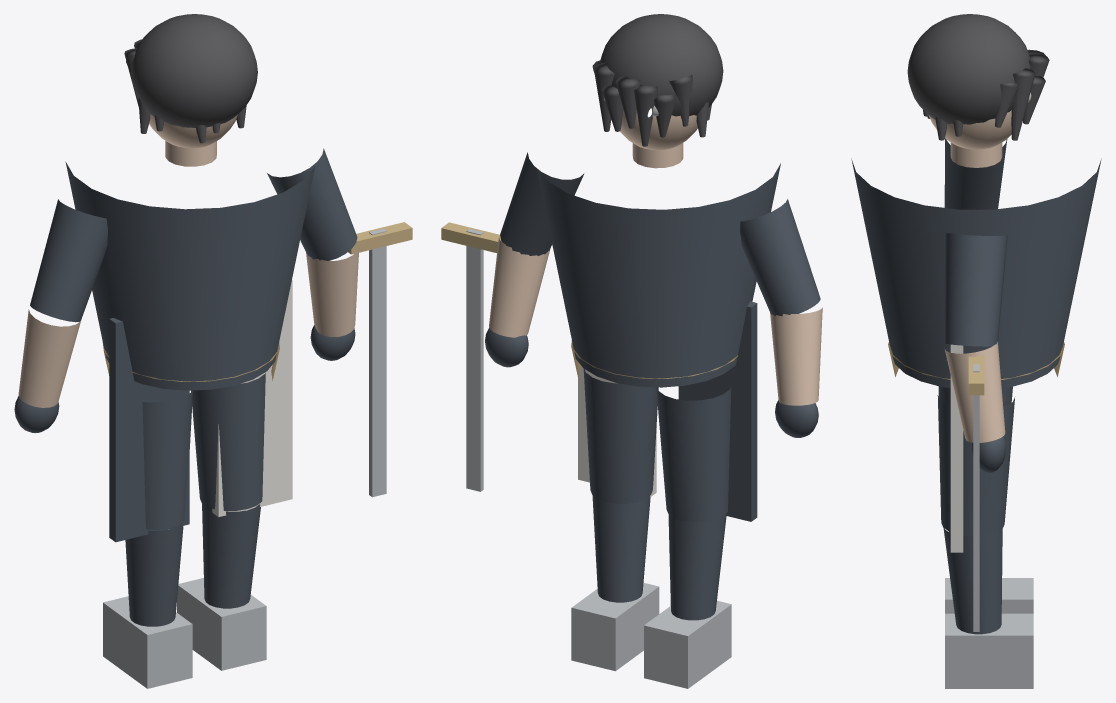
File: haechan-procedural-v1.glb
3 renders of one model, left to right at view 1: azimuth 30°, elevation 25°; view 2: azimuth 150°, elevation 25°; view 3: azimuth 270°, elevation 25°, orthographic. The views are drawn at different scales.
Parts seen in each view (by area): view 1: Outfit_Torso, Hair_Cap, Body_Thigh_R, Outfit_CoatTail_L, Body_UpperArm_L, Body_Thigh_L, Outfit_Boot_L, Outfit_CoatTail_R, Outfit_Boot_R, Body_Shin_R, Body_Shin_L, Weapon_SwordBlade (+8 smaller); view 2: Outfit_Torso, Body_Thigh_L, Body_Thigh_R, Hair_Cap, Outfit_CoatTail_L, Body_UpperArm_L, Outfit_Boot_L, Outfit_Boot_R, Body_Shin_R, Body_Shin_L, Weapon_SwordBlade, Body_Forearm_L (+14 smaller); view 3: Outfit_Torso, Hair_Cap, Body_UpperArm_R, Outfit_Boot_R, Body_Thigh_R, Body_Shin_R, Body_Forearm_R, Body_UpperArm_L, Outfit_CoatTail_R, Weapon_SwordBlade, Body_Head, Outfit_Boot_L (+8 smaller).
Boxes of the visible parts, bbox=[...] form: Outfit_Torso: bbox=[65, 161, 314, 390]; Hair_Cap: bbox=[131, 14, 257, 127]; Body_Thigh_R: bbox=[191, 372, 265, 510]; Outfit_CoatTail_L: bbox=[109, 318, 189, 542]; Body_UpperArm_L: bbox=[30, 199, 107, 322]; Body_Thigh_L: bbox=[142, 390, 192, 529]; Outfit_Boot_L: bbox=[103, 596, 192, 688]; Outfit_CoatTail_R: bbox=[212, 280, 292, 516]; Outfit_Boot_R: bbox=[177, 578, 266, 670]; Body_Shin_R: bbox=[202, 503, 260, 608]; Body_Shin_L: bbox=[125, 523, 183, 626]; Weapon_SwordBlade: bbox=[369, 228, 386, 497]; Outfit_Torso: bbox=[536, 163, 780, 387]; Body_Thigh_L: bbox=[656, 387, 731, 522]; Body_Thigh_R: bbox=[583, 369, 658, 503]; Hair_Cap: bbox=[600, 14, 723, 116]; Outfit_CoatTail_L: bbox=[678, 301, 757, 521]; Body_UpperArm_L: bbox=[740, 199, 820, 316]; Outfit_Boot_L: bbox=[644, 600, 731, 688]; Outfit_Boot_R: bbox=[571, 583, 659, 671]; Body_Shin_R: bbox=[592, 495, 650, 602]; Body_Shin_L: bbox=[668, 514, 726, 620]; Weapon_SwordBlade: bbox=[466, 229, 483, 491]; Body_Forearm_L: bbox=[770, 307, 822, 405]; Outfit_Torso: bbox=[851, 158, 1101, 387]; Hair_Cap: bbox=[907, 14, 1030, 124]; Body_UpperArm_R: bbox=[944, 232, 1007, 346]; Outfit_Boot_R: bbox=[945, 613, 1033, 688]; Body_Thigh_R: bbox=[937, 395, 1014, 536]; Body_Shin_R: bbox=[943, 527, 1002, 634]; Body_Forearm_R: bbox=[945, 341, 1005, 442]; Body_UpperArm_L: bbox=[944, 138, 1007, 209]; Outfit_CoatTail_R: bbox=[950, 344, 963, 552]; Weapon_SwordBlade: bbox=[973, 364, 979, 631]; Body_Head: bbox=[928, 110, 1011, 149]; Outfit_Boot_L: bbox=[945, 578, 1033, 613].
Size of the model in its own units: 1.25 by 1.99 by 0.7067.
